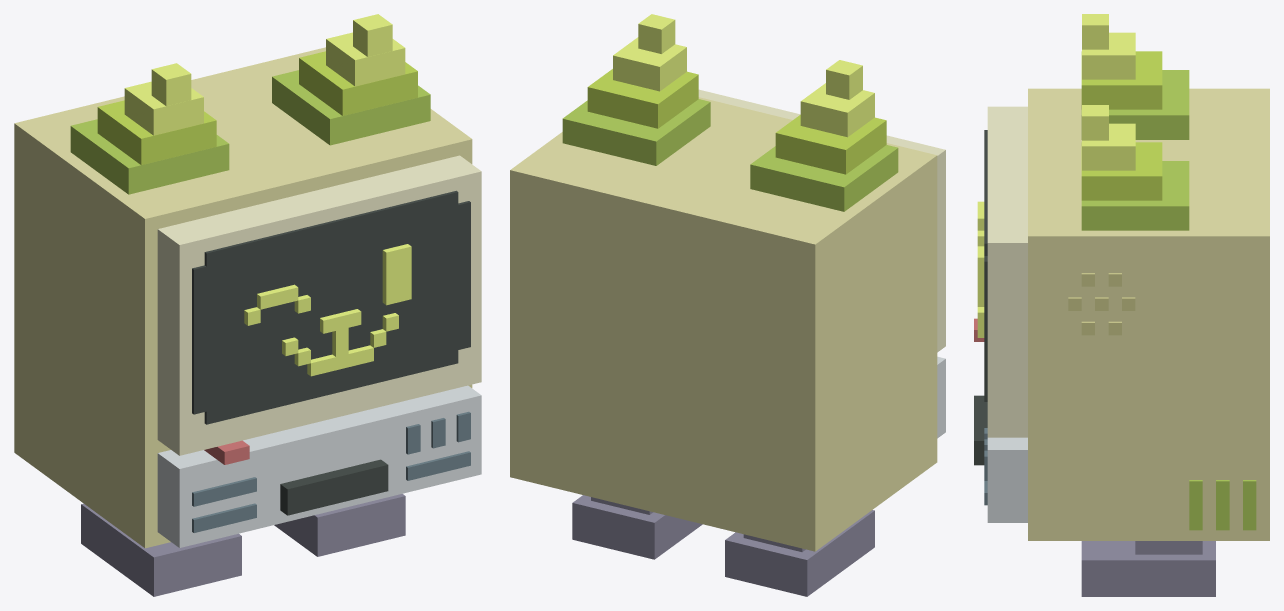
The model's file is kitty-cad-mascot.glb.
The picture shows the model from 3 angles, left to right: view 1: azimuth 30°, elevation 25°; view 2: azimuth 150°, elevation 25°; view 3: azimuth 270°, elevation 25°; orthographic projection. The views are drawn at different scales.
Bounding box in the file's own units: 0.0263 × 0.039 × 0.022.
